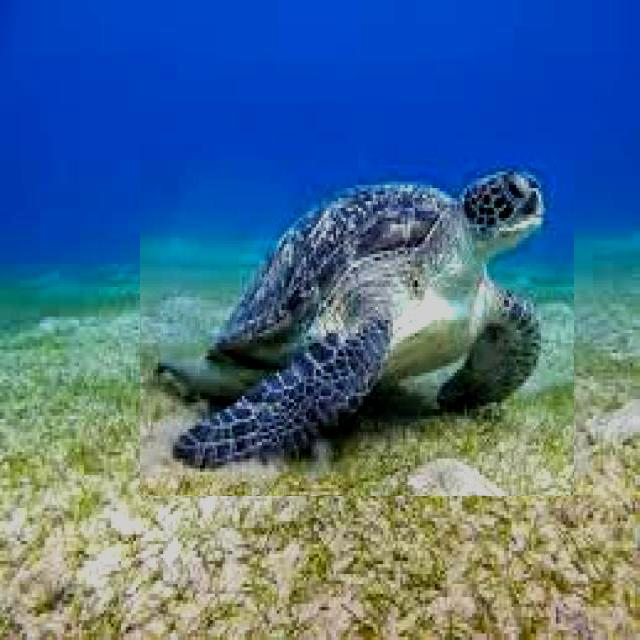Sea turtle: (140, 144, 574, 496)
